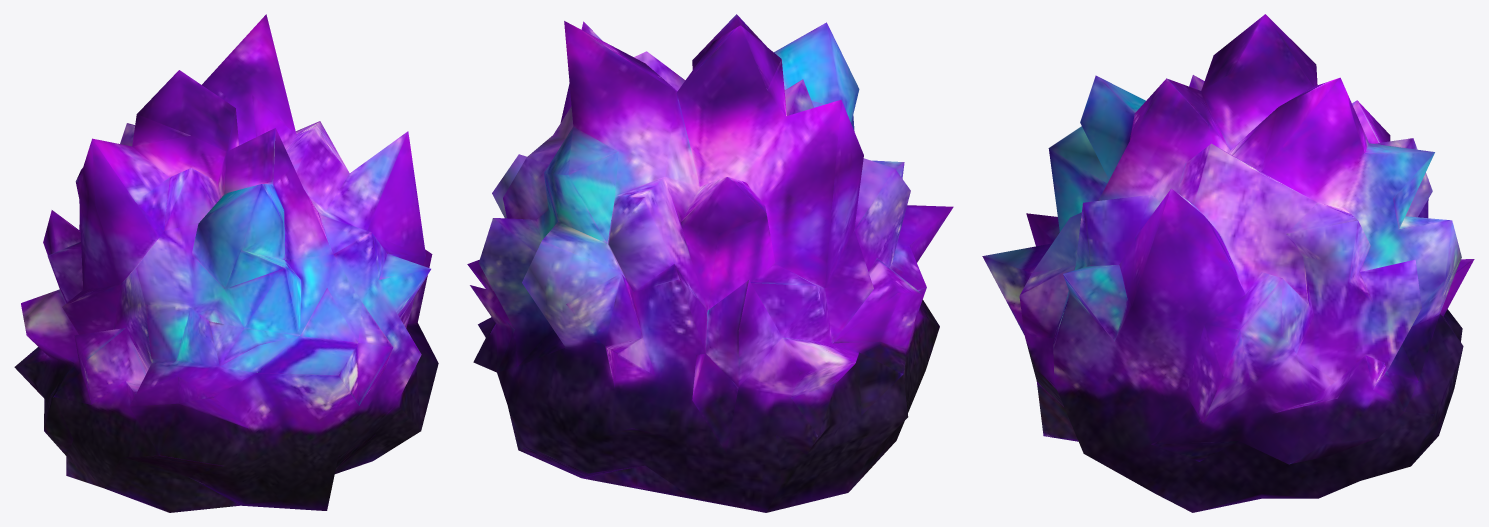
The model's file is p_vibrant_han_2.glb.
3 views of the same model, side by side, from view 1: azimuth 30°, elevation 25°; view 2: azimuth 150°, elevation 25°; view 3: azimuth 270°, elevation 25° (orthographic). The views are drawn at different scales.
Parts seen in each view (by area): view 1: Mesh_0; view 2: Mesh_0; view 3: Mesh_0.
Part boxes in pixels (bbox=[...]): Mesh_0: bbox=[14, 14, 438, 512]; Mesh_0: bbox=[467, 14, 953, 512]; Mesh_0: bbox=[982, 14, 1474, 512].
Size of the model in its own units: 1.81 by 1.79 by 1.94.
1 material, 1 textured.
